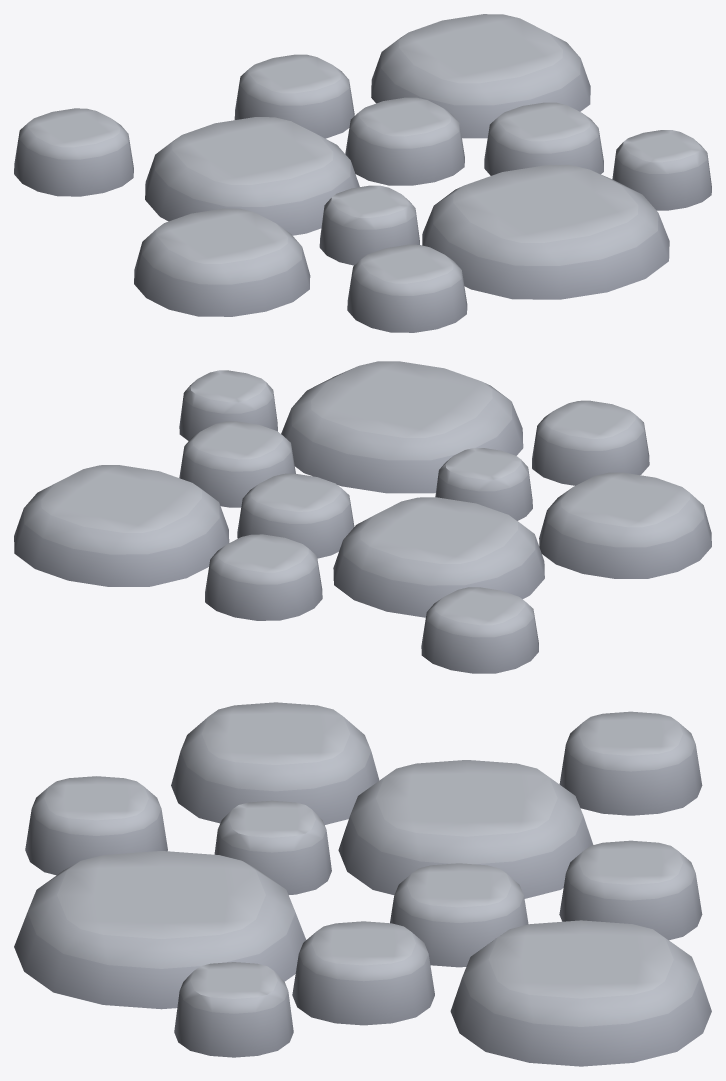
The model's file is cobble-stones-large.glb.
The picture shows the model from 3 angles, top to bottom: view 1: azimuth 30°, elevation 25°; view 2: azimuth 150°, elevation 25°; view 3: azimuth 270°, elevation 25°; orthographic projection. The views are drawn at different scales.
Visible parts, largest first — view 1: cobble_stones_large; view 2: cobble_stones_large; view 3: cobble_stones_large.
Boxes of the visible parts, x1,y1,x2,y2 form: cobble_stones_large: (14, 14, 711, 332); cobble_stones_large: (14, 361, 711, 673); cobble_stones_large: (14, 702, 711, 1066).
Bounding box in the file's own units: 2.02 × 0.15 × 1.83.
1 material, 1 textured.
